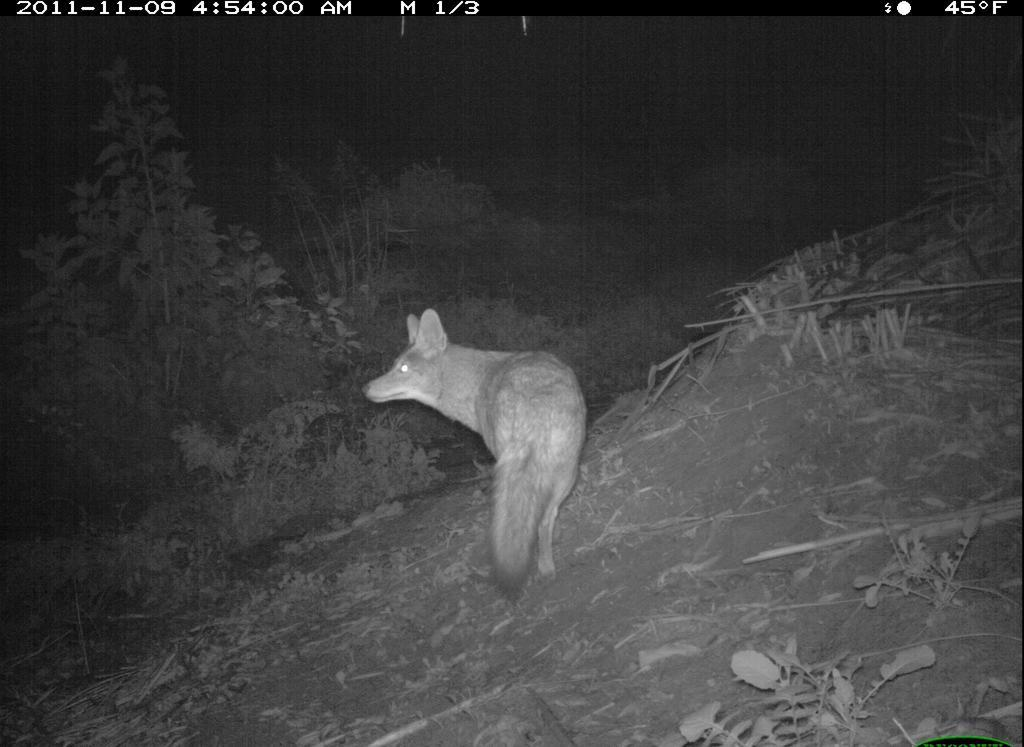coyote: (355, 302, 598, 618)
